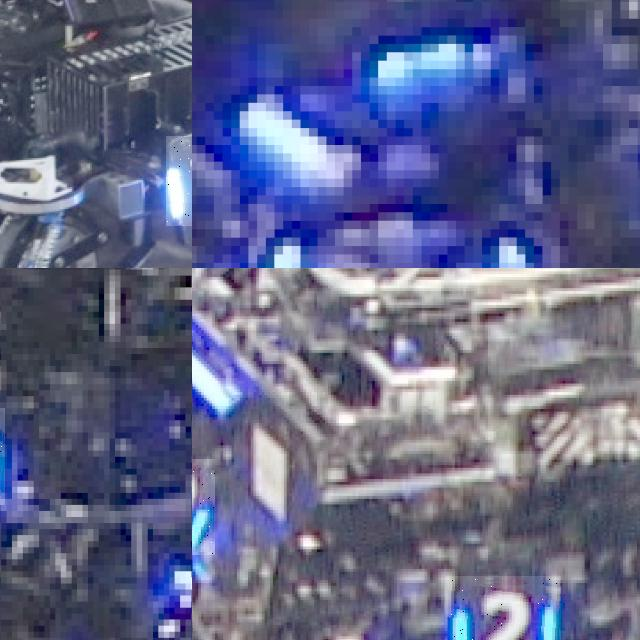B2: (445, 576, 561, 640), (192, 459, 214, 554)
Bs: (166, 136, 192, 225)
